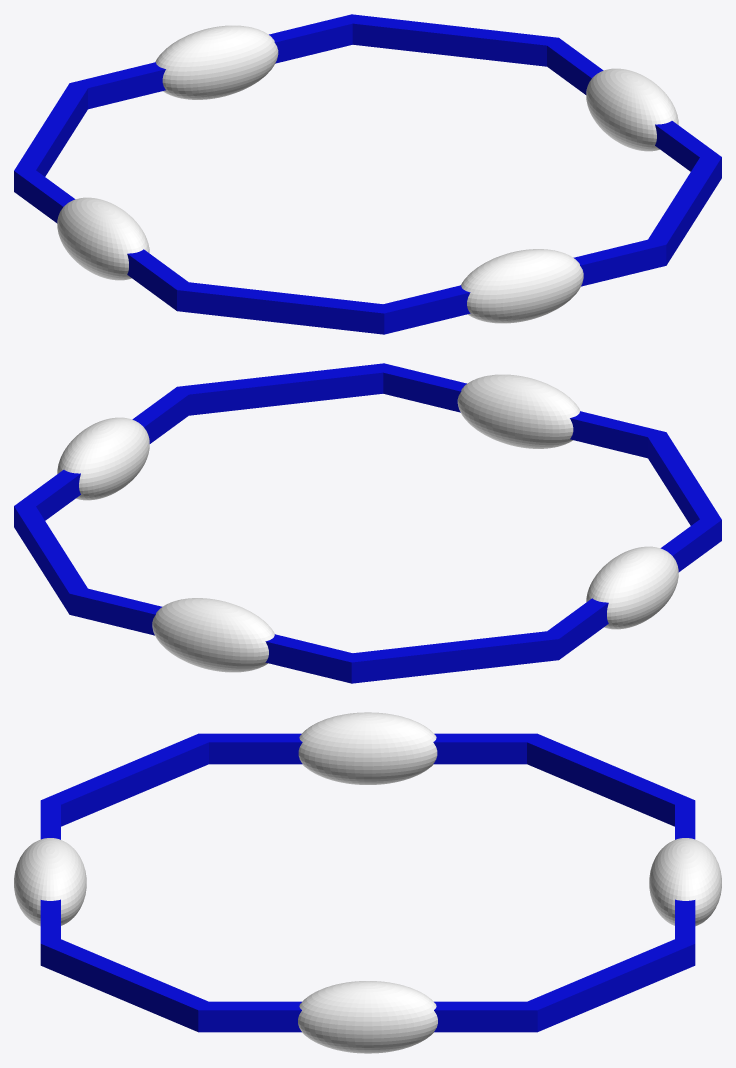
The model's file is exit_ring.dae.
The picture shows the model from 3 angles, top to bottom: view 1: azimuth 30°, elevation 25°; view 2: azimuth 150°, elevation 25°; view 3: azimuth 270°, elevation 25°; orthographic projection. The views are drawn at different scales.
Visible parts, largest first — view 1: Cube; view 2: Cube; view 3: Cube.
Boxes of the visible parts, <box> form: Cube: <box>14,14,721,334</box>; Cube: <box>14,363,721,683</box>; Cube: <box>14,712,721,1053</box>.
Size of the model in its own units: 2.92 by 2.92 by 0.3.
